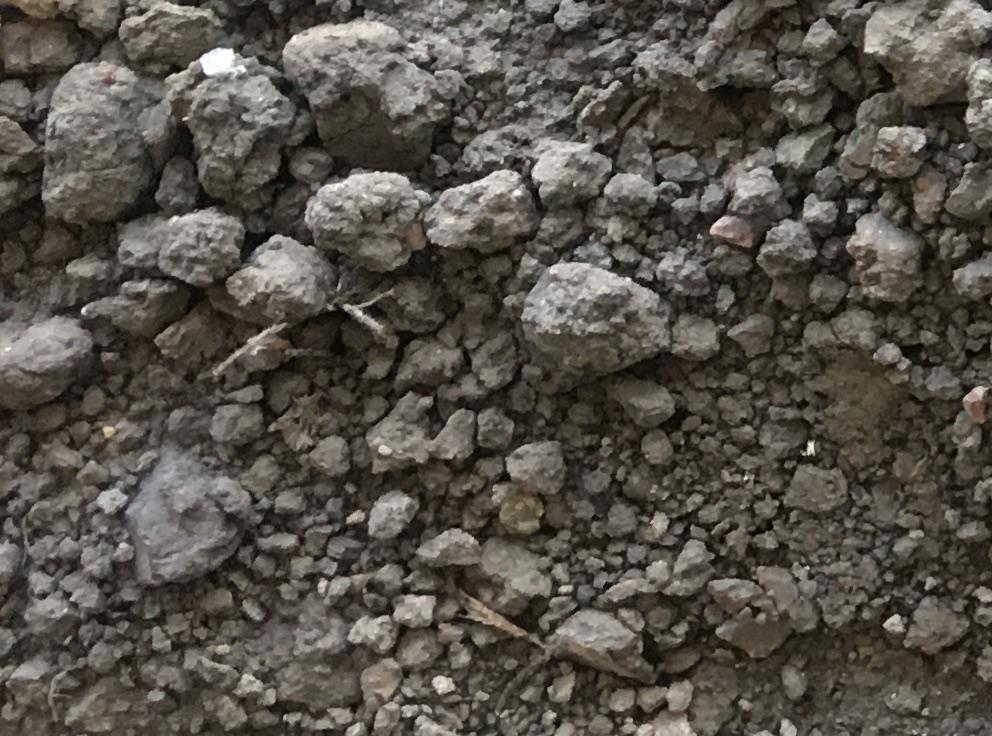block: (275, 20, 442, 164), (44, 60, 162, 226), (121, 447, 248, 592), (513, 263, 670, 378), (189, 66, 292, 205), (863, 2, 985, 105), (215, 236, 341, 329), (304, 172, 422, 265), (1, 306, 102, 413), (429, 173, 532, 255)
